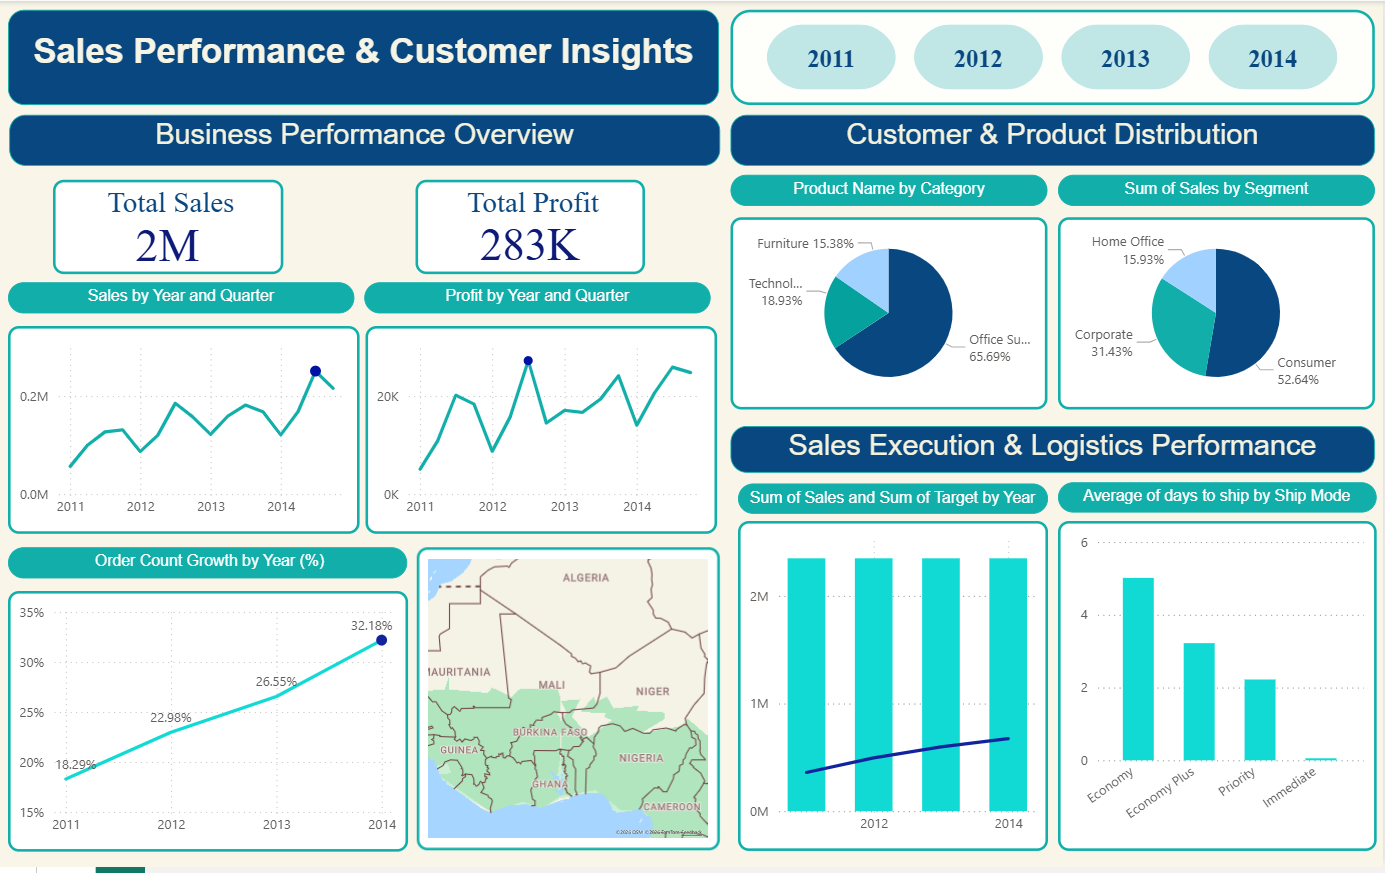

The dashboard page shown, as its layout file describes it:
{"tool":"powerbi","page":{"name":"1","canvas":[1280,800],"ordinal":0},"visuals":[{"type":"azureMap","title":"                                Most ","fields":{"Size":["CountNonNull(ListOfOrders.Order ID)"],"Category":["ListOfOrders.Country"]},"box":[387.2,504.7,280.2,280.2],"z":0},{"type":"lineChart","title":"Sales by Year and Quarter","fields":{"Y":["Sum(OrderBreakdown.Sales)"],"Category":["ListOfOrders.Order Date.Variation.Date Hierarchy.Year","ListOfOrders.Order Date.Variation.Date Hierarchy.Quarter"]},"box":[9,300,325,191.9],"z":1000},{"type":"lineChart","title":"Profit by Year and Quarter","fields":{"Y":["Sum(OrderBreakdown.Profit)"],"Category":["ListOfOrders.Order Date.Variation.Date Hierarchy.Year","ListOfOrders.Order Date.Variation.Date Hierarchy.Quarter"]},"box":[339.5,300,325,191.9],"z":2000},{"type":"textbox","box":[9.3,8.1,657,88.4],"z":3000},{"type":"card","title":"Total Profit","fields":{"Values":["Sum(OrderBreakdown.Profit)"]},"box":[386,165,212,87.2],"z":4000},{"type":"card","title":"Total Sales","fields":{"Values":["Sum(OrderBreakdown.Sales)"]},"box":[51,165,212.8,87],"z":5000},{"type":"pieChart","title":"Product Name by Category","fields":{"Y":["CountNonNull(OrderBreakdown.Product Name)"],"Category":["OrderBreakdown.Category"]},"box":[676.7,200,293,177.9],"z":6000},{"type":"clusteredColumnChart","fields":{"Category":["ListOfOrders.Ship Mode"],"Y":["Avg(ListOfOrders.days to ship)"]},"box":[979.1,480.2,294.2,304.7],"z":7000},{"type":"advancedSlicerVisual","fields":{"Values":["ListOfOrders.Order Date.Variation.Date Hierarchy.Year"]},"box":[676.7,8.1,595.4,88.4],"z":8000},{"type":"pieChart","fields":{"Category":["ListOfOrders.Segment"],"Y":["Sum(OrderBreakdown.Sales)"]},"box":[979.1,200,293,177.9],"z":9000},{"type":"lineChart","fields":{"Y":["CountNonNull(ListOfOrders.Order ID)"],"Category":["ListOfOrders.Order Date.Variation.Date Hierarchy.Year"]},"box":[9.3,545.4,369.8,240.7],"z":10000},{"type":"textbox","box":[676.7,160,293,29],"z":11000},{"type":"textbox","box":[979.1,160.5,293,29.1],"z":12000},{"type":"textbox","box":[9.3,260,320,29.1],"z":13000},{"type":"textbox","box":[338,260,320,29],"z":14000},{"type":"textbox","box":[10,105,657,47],"z":15000},{"type":"textbox","box":[676.7,104.7,595,47],"z":16000},{"type":"textbox","box":[9.3,505,368.6,29.1],"z":17000},{"type":"lineClusteredColumnComboChart","fields":{"Category":["SalesTargets.Month of Order Date.Variation.Date Hierarchy.Year"],"Y":["Sum(OrderBreakdown.Sales)"],"Y2":["Sum(SalesTargets.Target)"]},"box":[683.7,480.2,286,304.7],"z":18000},{"type":"textbox","box":[676.7,393,595.4,43],"z":19000},{"type":"textbox","box":[979.1,445,294,27.9],"z":20000},{"type":"textbox","box":[683.7,445.4,286,27.9],"z":21000}]}

Visuals, with their boxes in screenshot pixels (x1, y1, x2, y2), scaled from the page's 1280x800 canvas onto the 1385x873 screenshot:
"                                Most " azureMap: box(419, 551, 722, 857)
"Sales by Year and Quarter" lineChart: box(10, 327, 361, 537)
"Profit by Year and Quarter" lineChart: box(367, 327, 719, 537)
textbox: box(10, 9, 721, 105)
"Total Profit" card: box(418, 180, 647, 275)
"Total Sales" card: box(55, 180, 285, 275)
"Product Name by Category" pieChart: box(732, 218, 1049, 412)
clusteredColumnChart - ListOfOrders.Ship Mode x Avg(ListOfOrders.days to ship): box(1059, 524, 1378, 857)
advancedSlicerVisual - ListOfOrders.Order Date.Variation.Date Hierarchy.Year: box(732, 9, 1376, 105)
pieChart - ListOfOrders.Segment x Sum(OrderBreakdown.Sales): box(1059, 218, 1376, 412)
lineChart - CountNonNull(ListOfOrders.Order ID) x ListOfOrders.Order Date.Variation.Date Hierarchy.Year: box(10, 595, 410, 858)
textbox: box(732, 175, 1049, 206)
textbox: box(1059, 175, 1376, 207)
textbox: box(10, 284, 356, 315)
textbox: box(366, 284, 712, 315)
textbox: box(11, 115, 722, 166)
textbox: box(732, 114, 1376, 166)
textbox: box(10, 551, 409, 583)
lineClusteredColumnComboChart - SalesTargets.Month of Order Date.Variation.Date Hierarchy.Year x Sum(OrderBreakdown.Sales): box(740, 524, 1049, 857)
textbox: box(732, 429, 1376, 476)
textbox: box(1059, 486, 1378, 516)
textbox: box(740, 486, 1049, 516)
